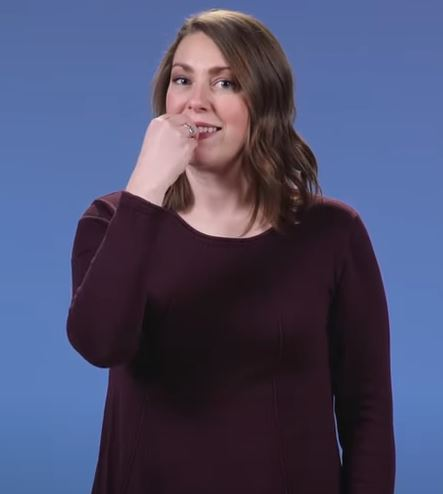eat: (124, 112, 232, 210)
